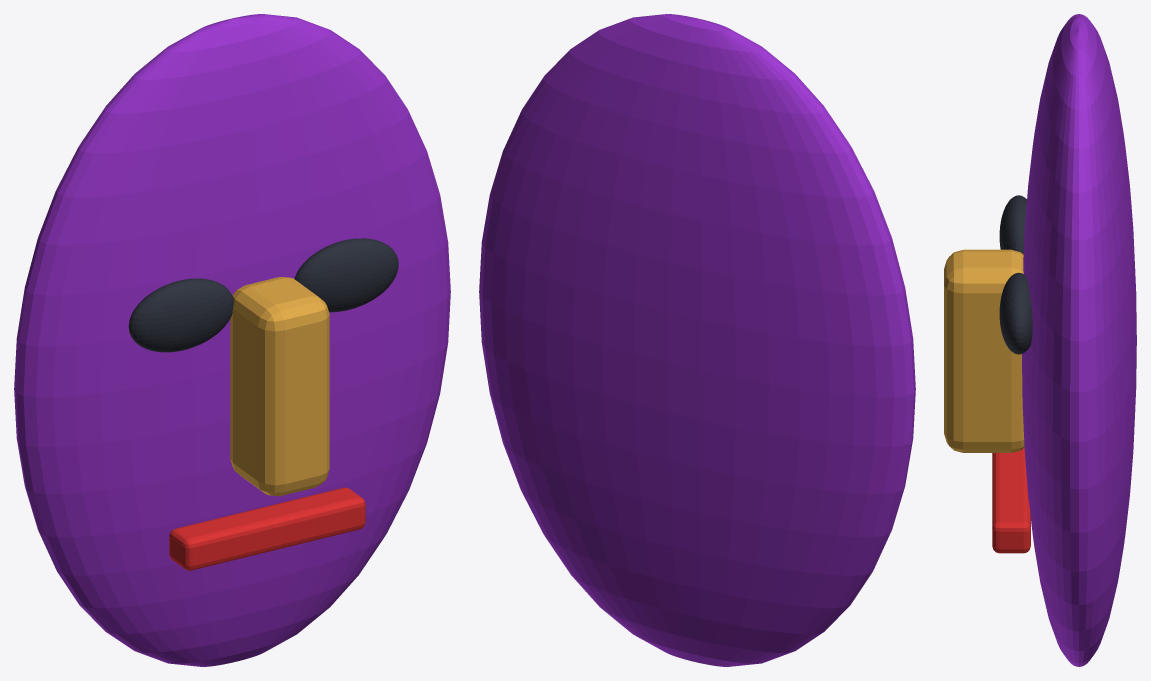
File: masque-ceremoniel.glb
3 views of the same model, side by side, from view 1: azimuth 30°, elevation 25°; view 2: azimuth 150°, elevation 25°; view 3: azimuth 270°, elevation 25° (orthographic). The views are drawn at different scales.
Parts seen in each view (by area): view 1: Masque, Nez, Bouche, Oeil G, Oeil D; view 2: Masque; view 3: Masque, Nez, Bouche, Oeil D, Oeil G.
Part boxes in pixels (x1,y1,x2,y2): Masque: (14, 14, 450, 666); Nez: (230, 277, 329, 496); Bouche: (169, 487, 365, 570); Oeil G: (128, 278, 233, 352); Oeil D: (294, 238, 398, 312); Masque: (479, 14, 915, 666); Masque: (1022, 14, 1136, 666); Nez: (944, 249, 1024, 452); Bouche: (992, 447, 1030, 553); Oeil D: (999, 272, 1032, 354); Oeil G: (999, 195, 1026, 254).
Size of the model in its own units: 2 by 2.84 by 0.8.
